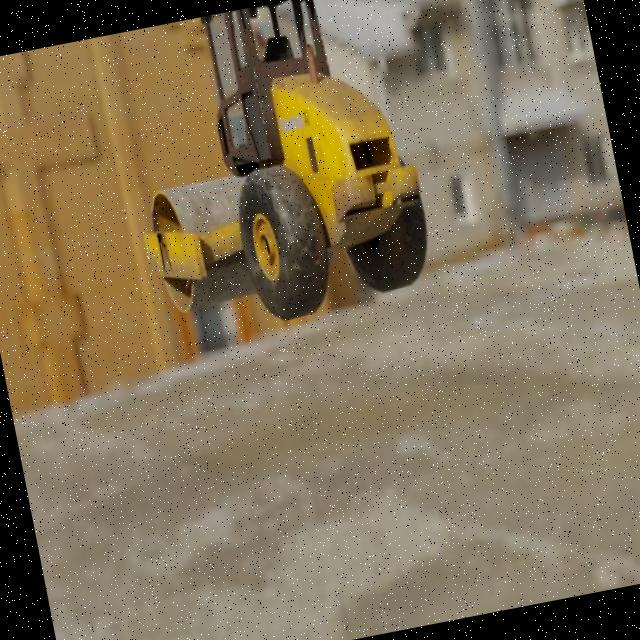Roller: (103, 0, 440, 344)
